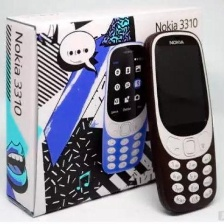book: (2, 4, 207, 221)
phone: (140, 24, 220, 217)
